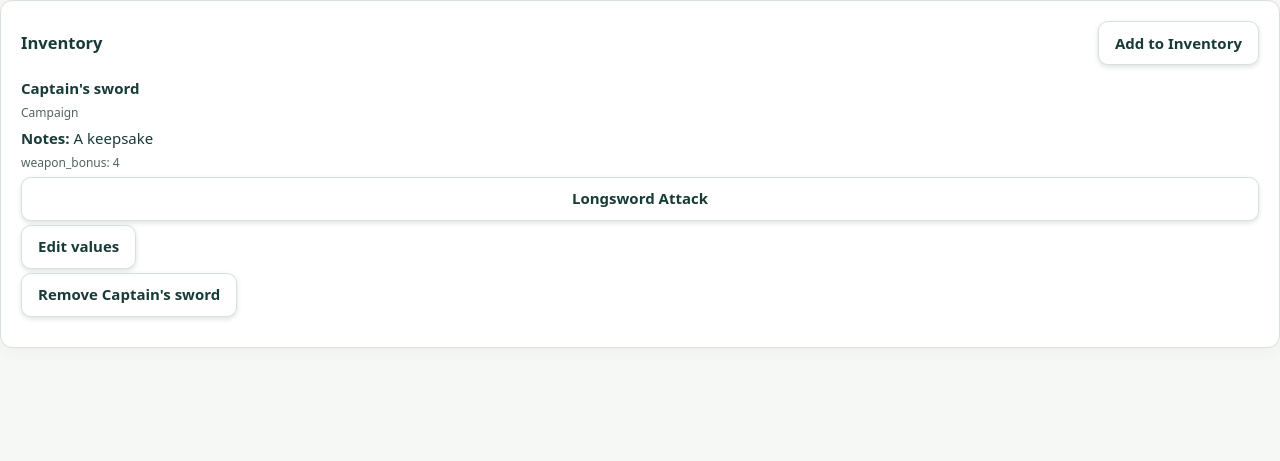
Test case: keeps a derived copy editable and playable without any former campaign catalog
Click the button "Longsword Attack" at (640, 199), box [21, 177, 1259, 221]
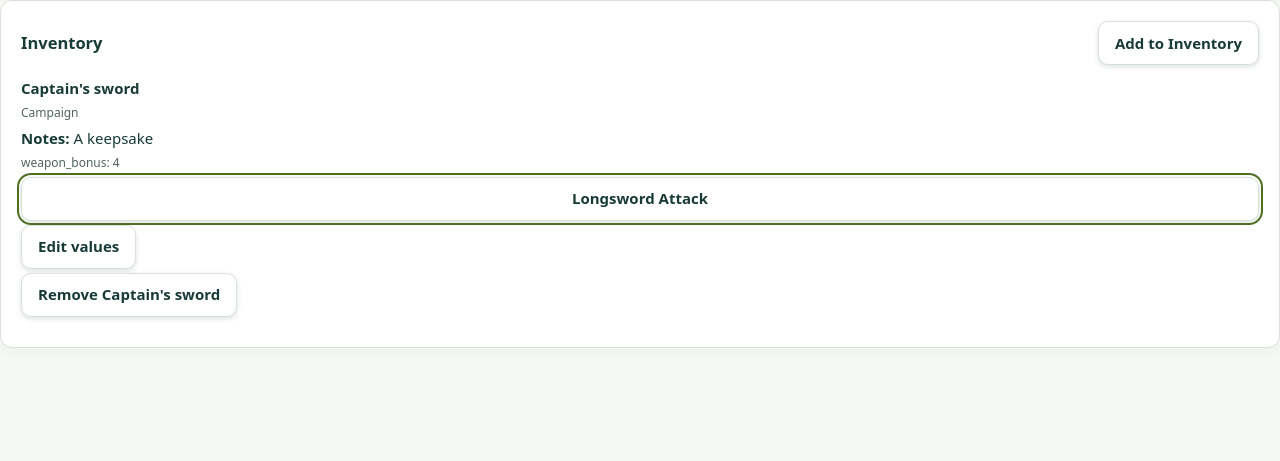
Click the button "Edit values" at (79, 247), box [21, 225, 136, 269]
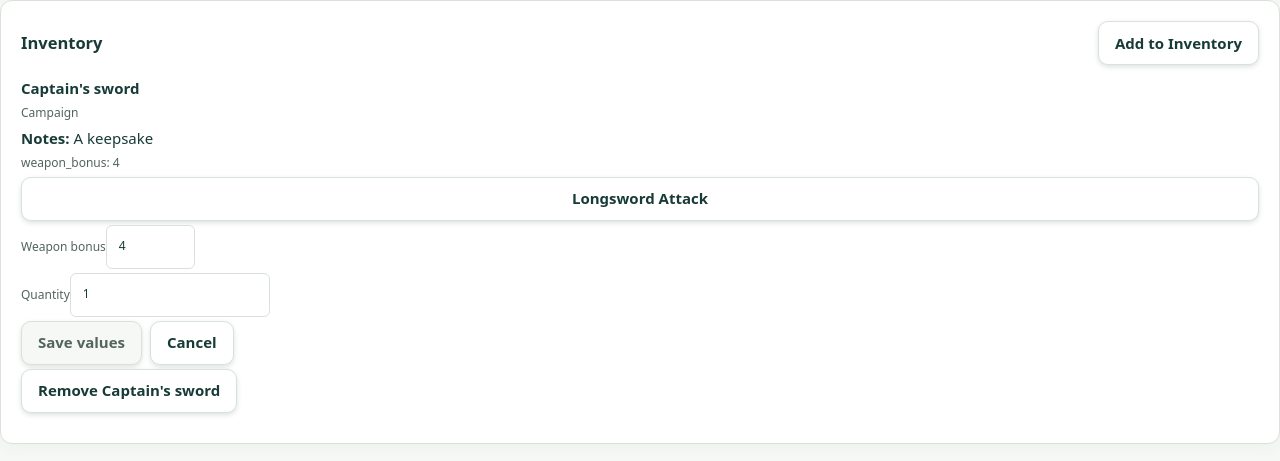
Check: the number field labelled "Weapon bonus" holds "4", box [106, 225, 195, 269]
